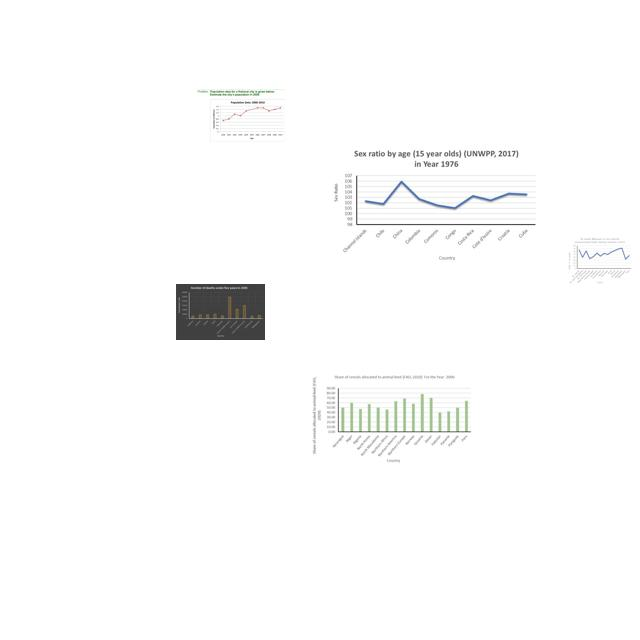Graph: (332, 145, 539, 262), (309, 370, 475, 465), (176, 284, 265, 340), (197, 89, 285, 143), (566, 237, 633, 285)
